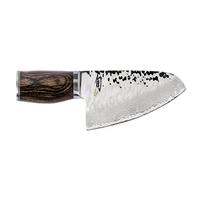knife: (13, 66, 190, 130)
